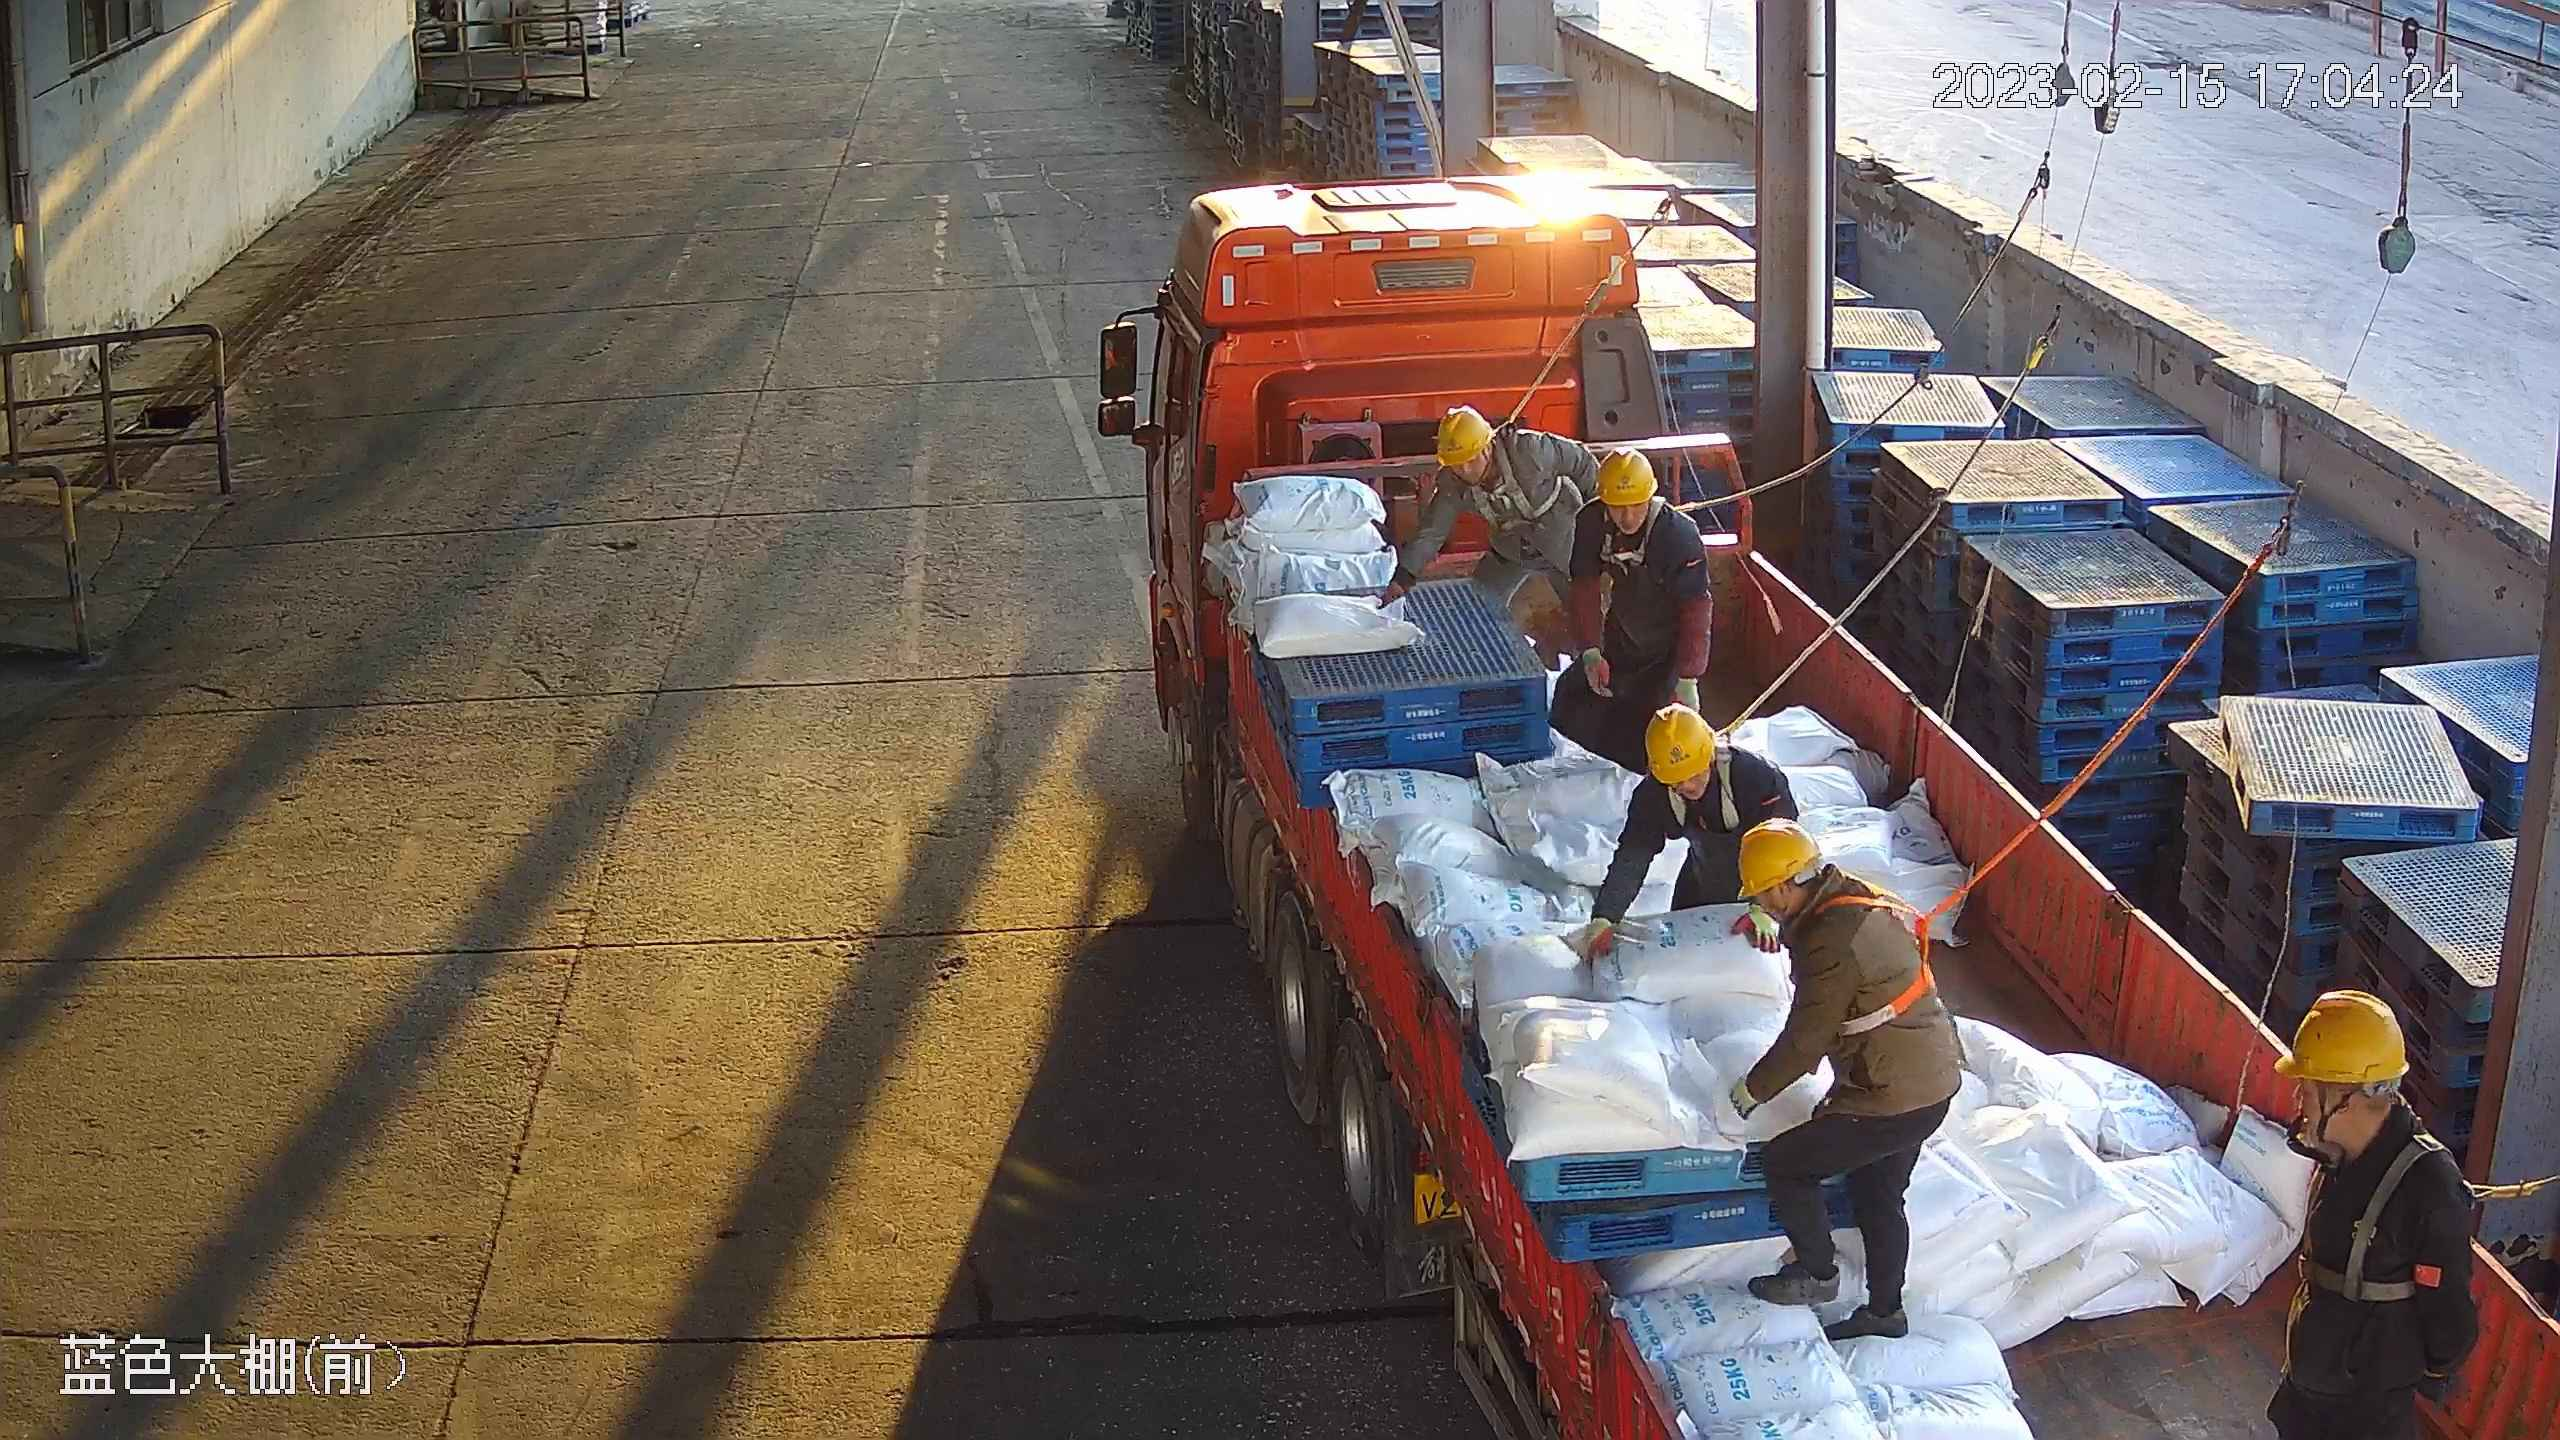belt: (2287, 1124, 2485, 1305), (1792, 880, 1966, 1033), (1649, 719, 1752, 831), (1469, 420, 1546, 525), (1584, 499, 1702, 566)
head: (2258, 984, 2473, 1213), (1729, 817, 1904, 968), (1626, 702, 1789, 809), (1573, 444, 1702, 553), (1416, 402, 1564, 495)
helmet: (2276, 990, 2409, 1085), (1734, 817, 1822, 898), (1644, 702, 1716, 784), (1431, 403, 1491, 465), (1597, 446, 1658, 505)
people: (1722, 812, 1959, 1348), (2259, 983, 2477, 1440), (1372, 400, 1601, 646), (1582, 702, 1797, 960), (1562, 443, 1717, 769)
truck: (1144, 173, 2560, 1440)
